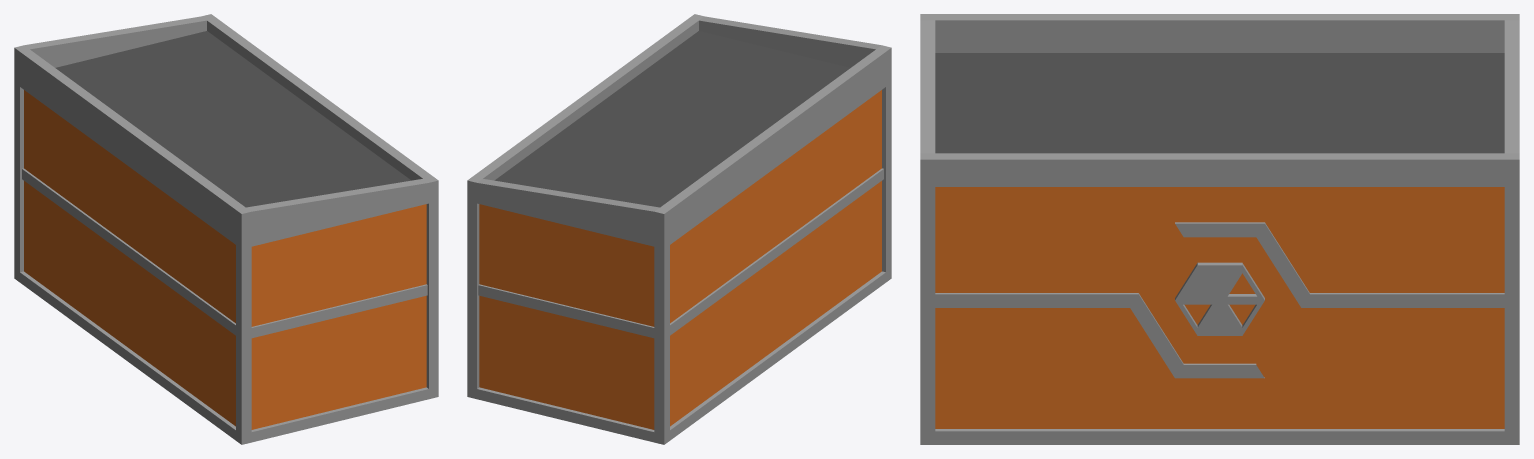
Rendered from Bancarella_01.fbx.
The picture shows the model from 3 angles, left to right: view 1: azimuth 30°, elevation 25°; view 2: azimuth 150°, elevation 25°; view 3: azimuth 270°, elevation 25°; orthographic projection. The views are drawn at different scales.
Visible parts, largest first — view 1: Bancarella, Insegna.001; view 2: Bancarella, Insegna.001; view 3: Bancarella, Insegna.001.
Part boxes in pixels (x1,y1,x2,y2): Bancarella: [14, 14, 438, 444]; Insegna.001: [22, 168, 427, 338]; Bancarella: [467, 14, 891, 444]; Insegna.001: [478, 168, 883, 338]; Bancarella: [920, 14, 1519, 444]; Insegna.001: [935, 222, 1504, 378].
Size of the model in its own units: 1 by 2 by 1.12.
